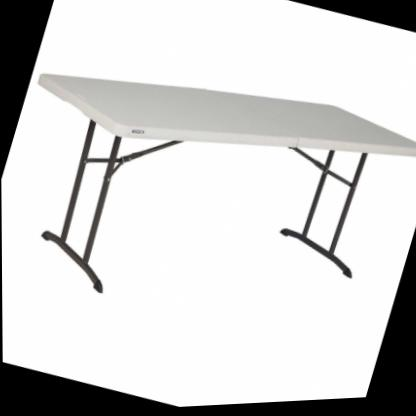Table: (0, 0, 416, 385)
